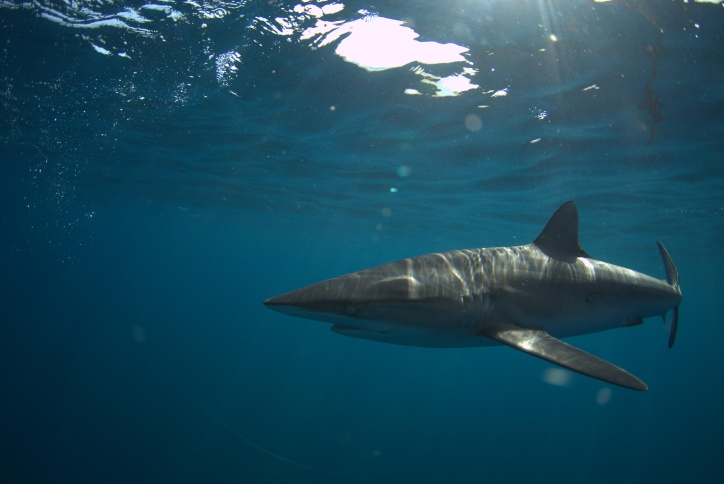Sedoso: (254, 186, 690, 401)
